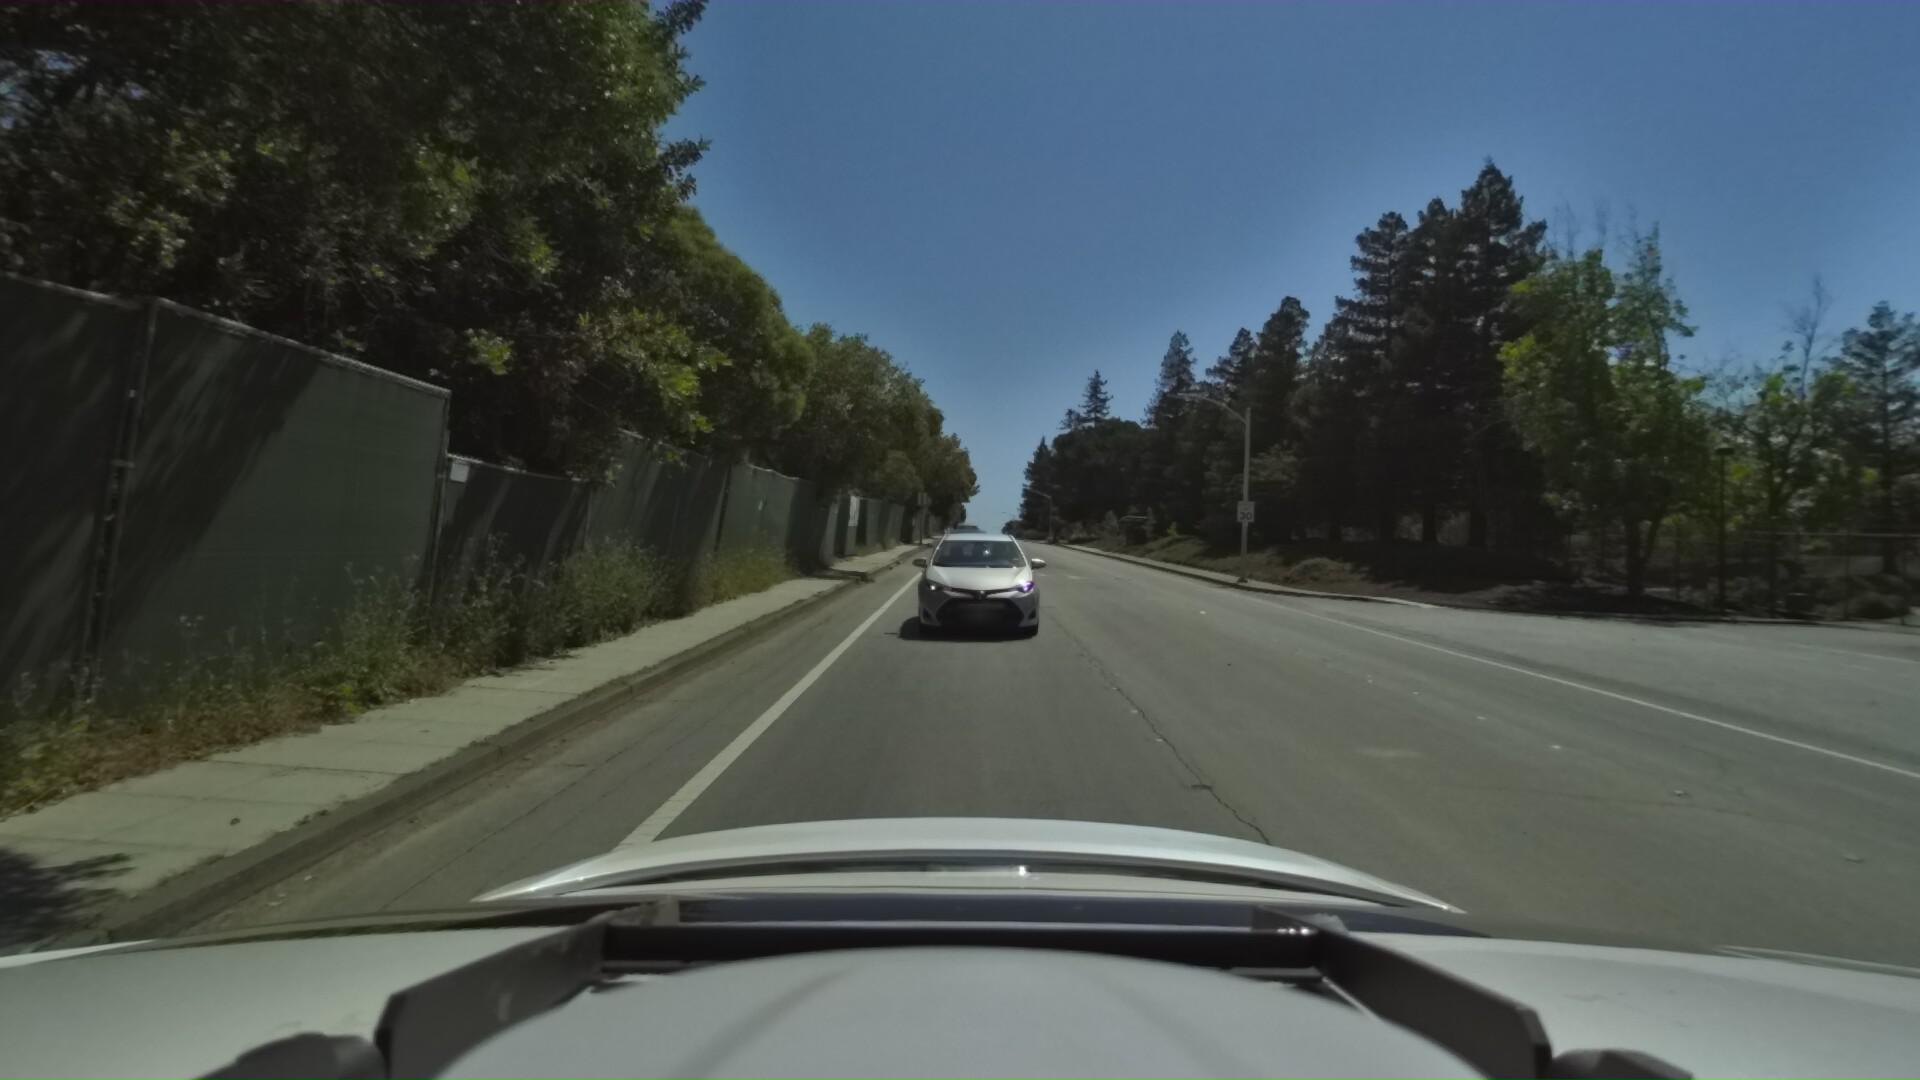car: (897, 506, 1040, 637), (930, 518, 986, 572)
